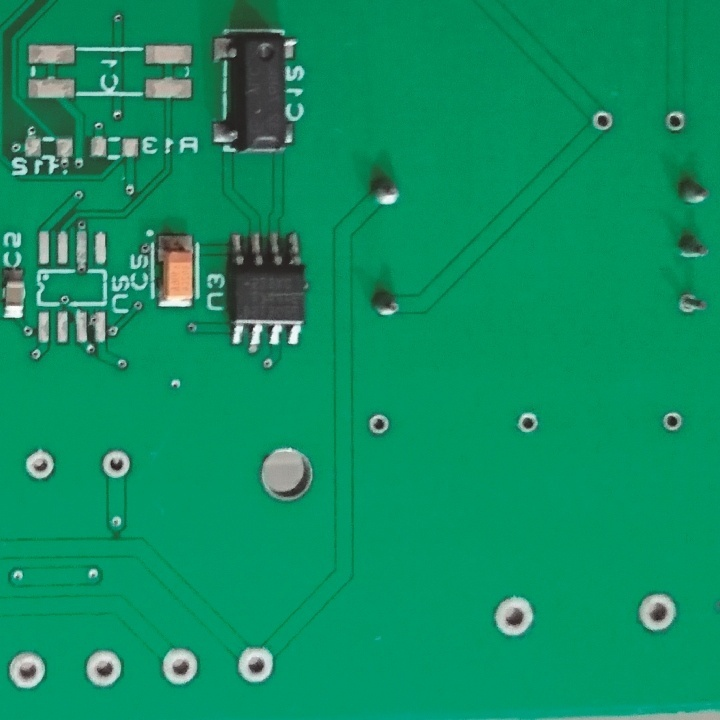F: (633, 589, 681, 638), (490, 594, 540, 641), (159, 640, 200, 691), (7, 647, 50, 695), (234, 642, 280, 686), (82, 646, 127, 690), (21, 446, 60, 483), (100, 447, 136, 484), (672, 287, 710, 318), (589, 105, 617, 137), (513, 407, 540, 439), (364, 412, 394, 440), (664, 107, 687, 137), (658, 409, 684, 432)
